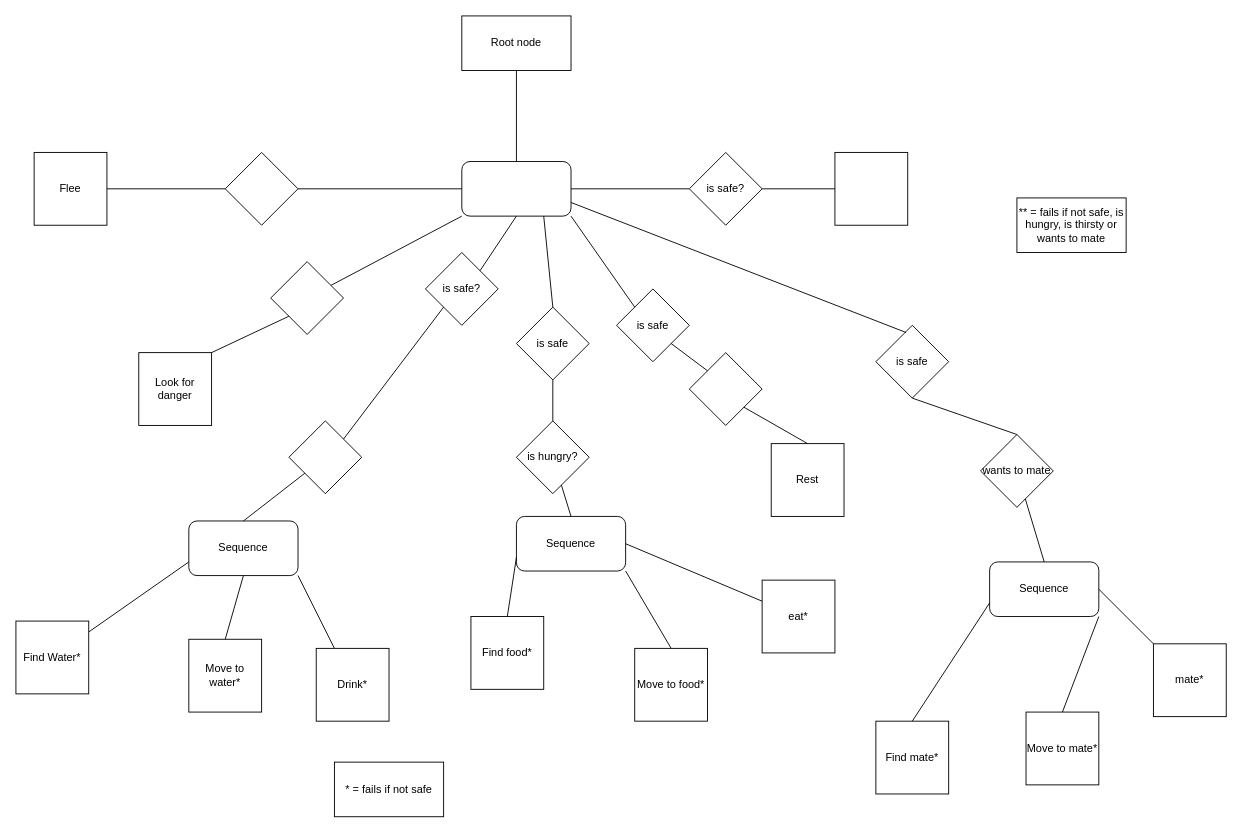
This 1242x833 diagram has some shape labels left out. Each missing label, with the box of its shape:
Is alert?: (270, 261, 344, 334)
Is in danger?: (224, 152, 298, 225)
Is thirsty?: (288, 420, 362, 494)
is tired?: (688, 352, 762, 425)
selector: (461, 161, 571, 216)
Wander**: (834, 152, 908, 225)
